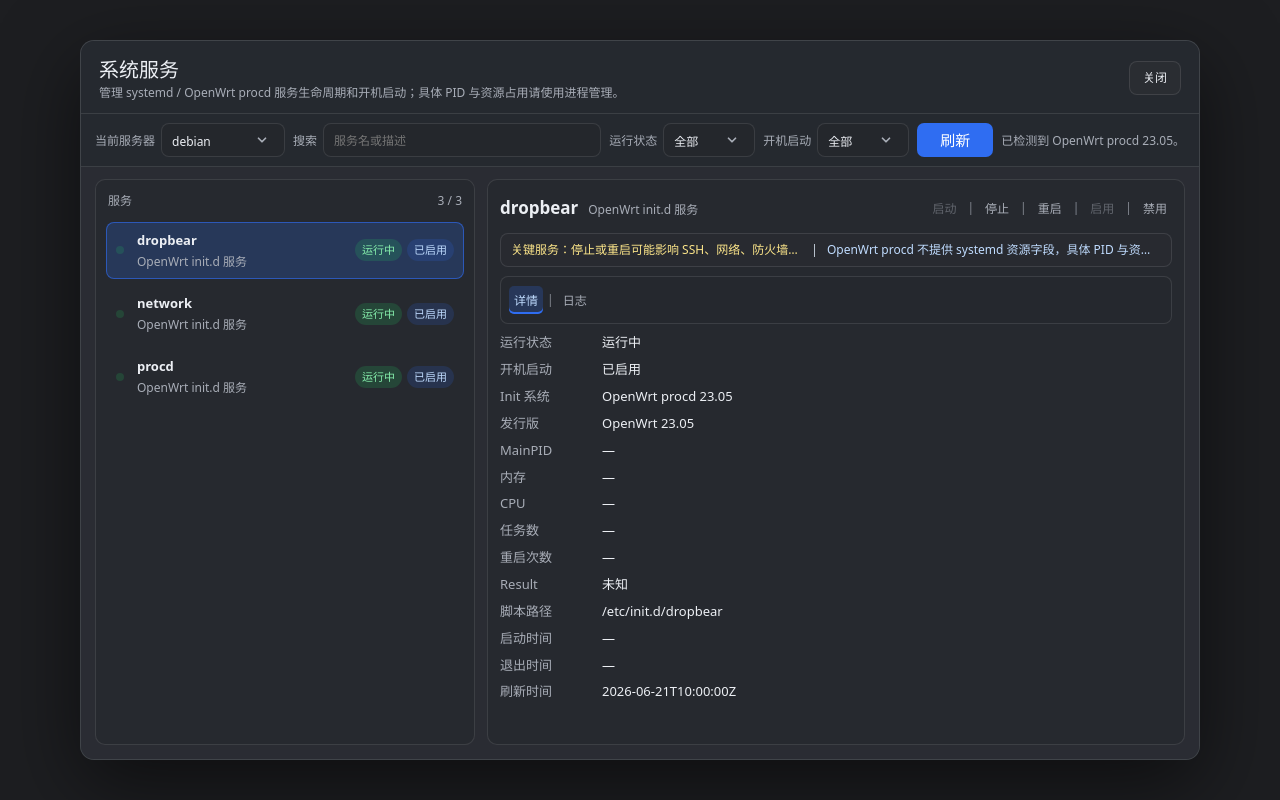
it: ServiceManagerDialog › shows OpenWrt procd capability, service names, detail fields, and logread tab
This screenshot has width=1280, height=800.
expect the text with test id "service-systemd-capability" shows "OpenWrt procd 23.05": met, box [1001,132,1185,149]
expect the element with test id "service-compact-notice" shows "OpenWrt procd 不提供 systemd 资源字段": met, box [827,241,1185,258]
Click the tab with test id "service-journal-tab".
click(575, 300)  # box [558,286,592,314]
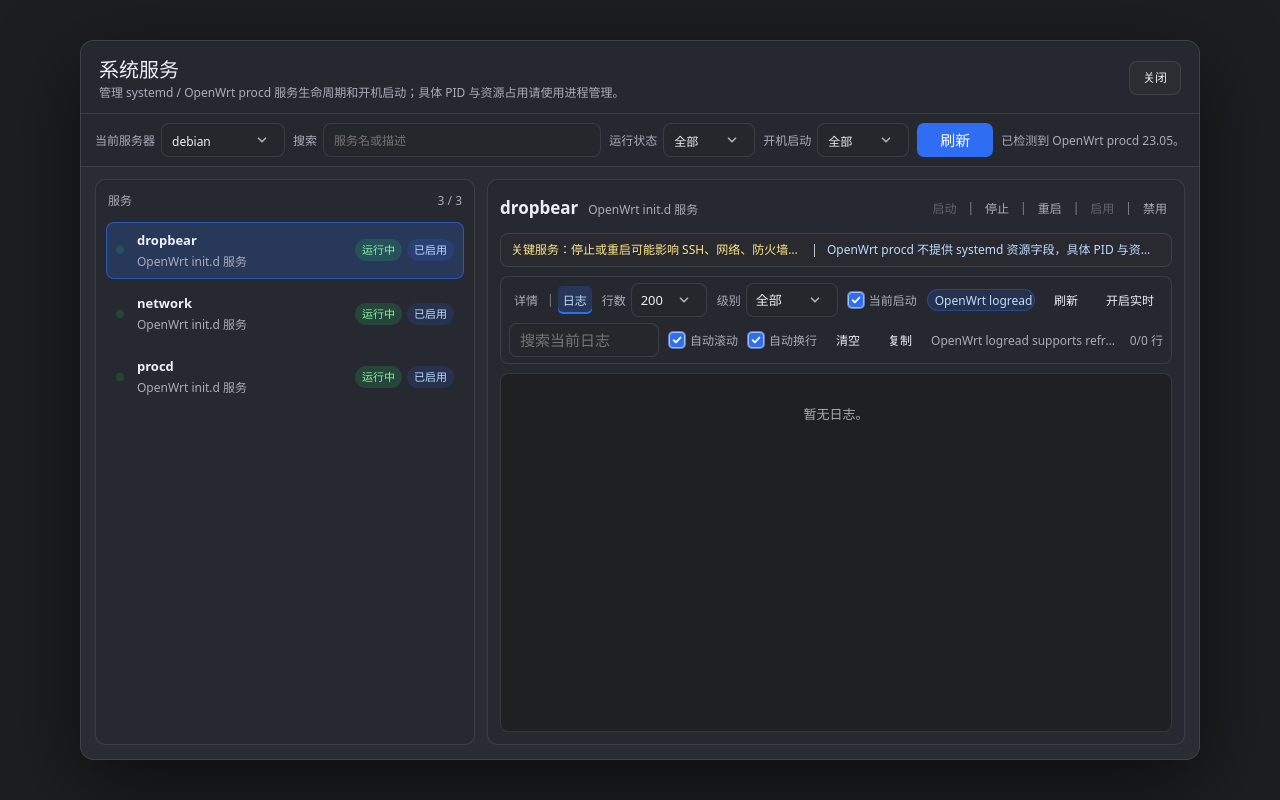
expect the text with test id "service-journal-source-badge" reads "OpenWrt logread": met, box [935,292,1032,309]
expect the button with test id "service-journal-follow" is disabled: met, box [1097,283,1163,317]
